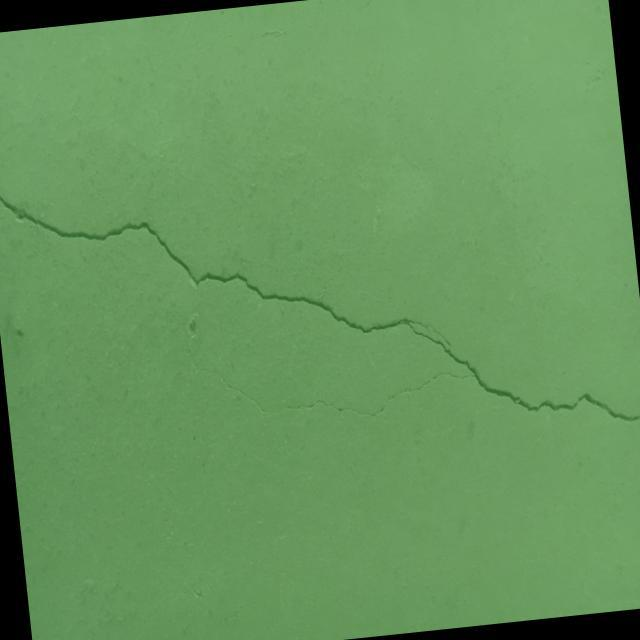crack: (0, 123, 640, 486)
